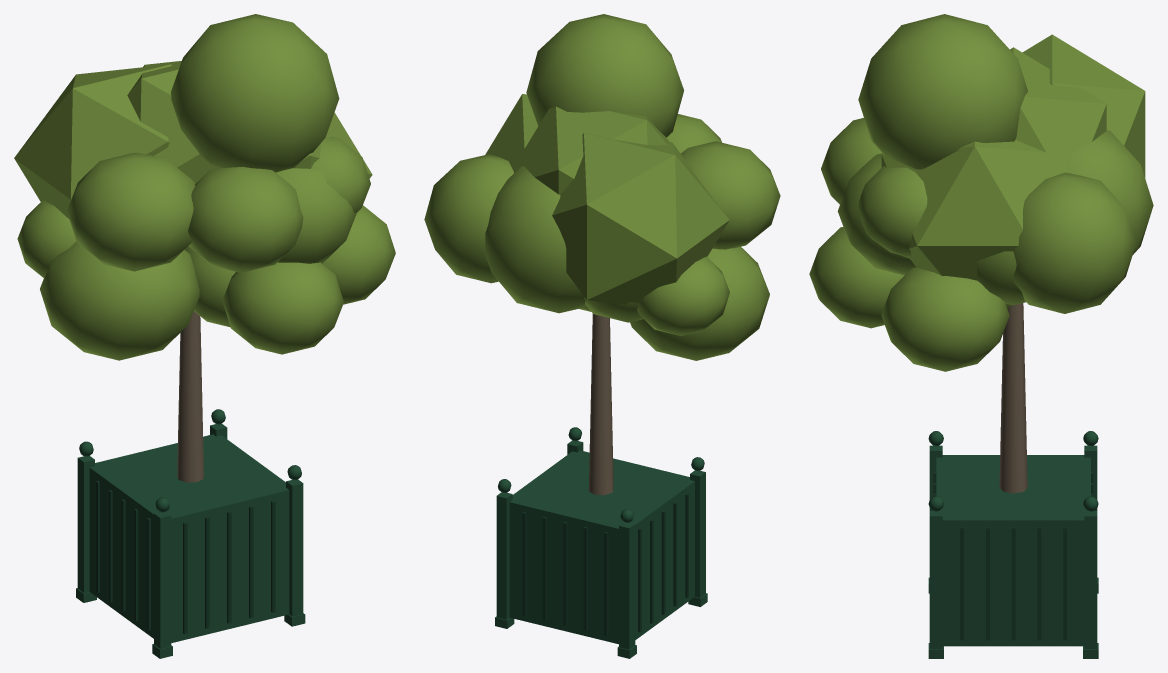
File: prop_tree.glb
The picture shows the model from 3 angles, left to right: view 1: azimuth 30°, elevation 25°; view 2: azimuth 150°, elevation 25°; view 3: azimuth 270°, elevation 25°; orthographic projection. The views are drawn at different scales.
Size of the model in its own units: 2.9 by 5.28 by 2.67.
